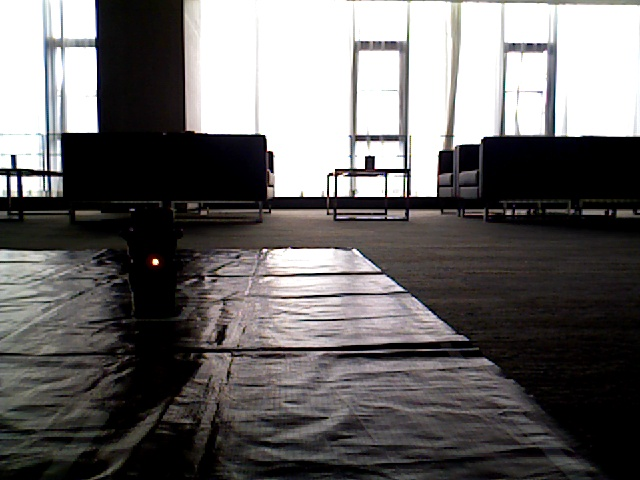yellow: (141, 208, 177, 310)
